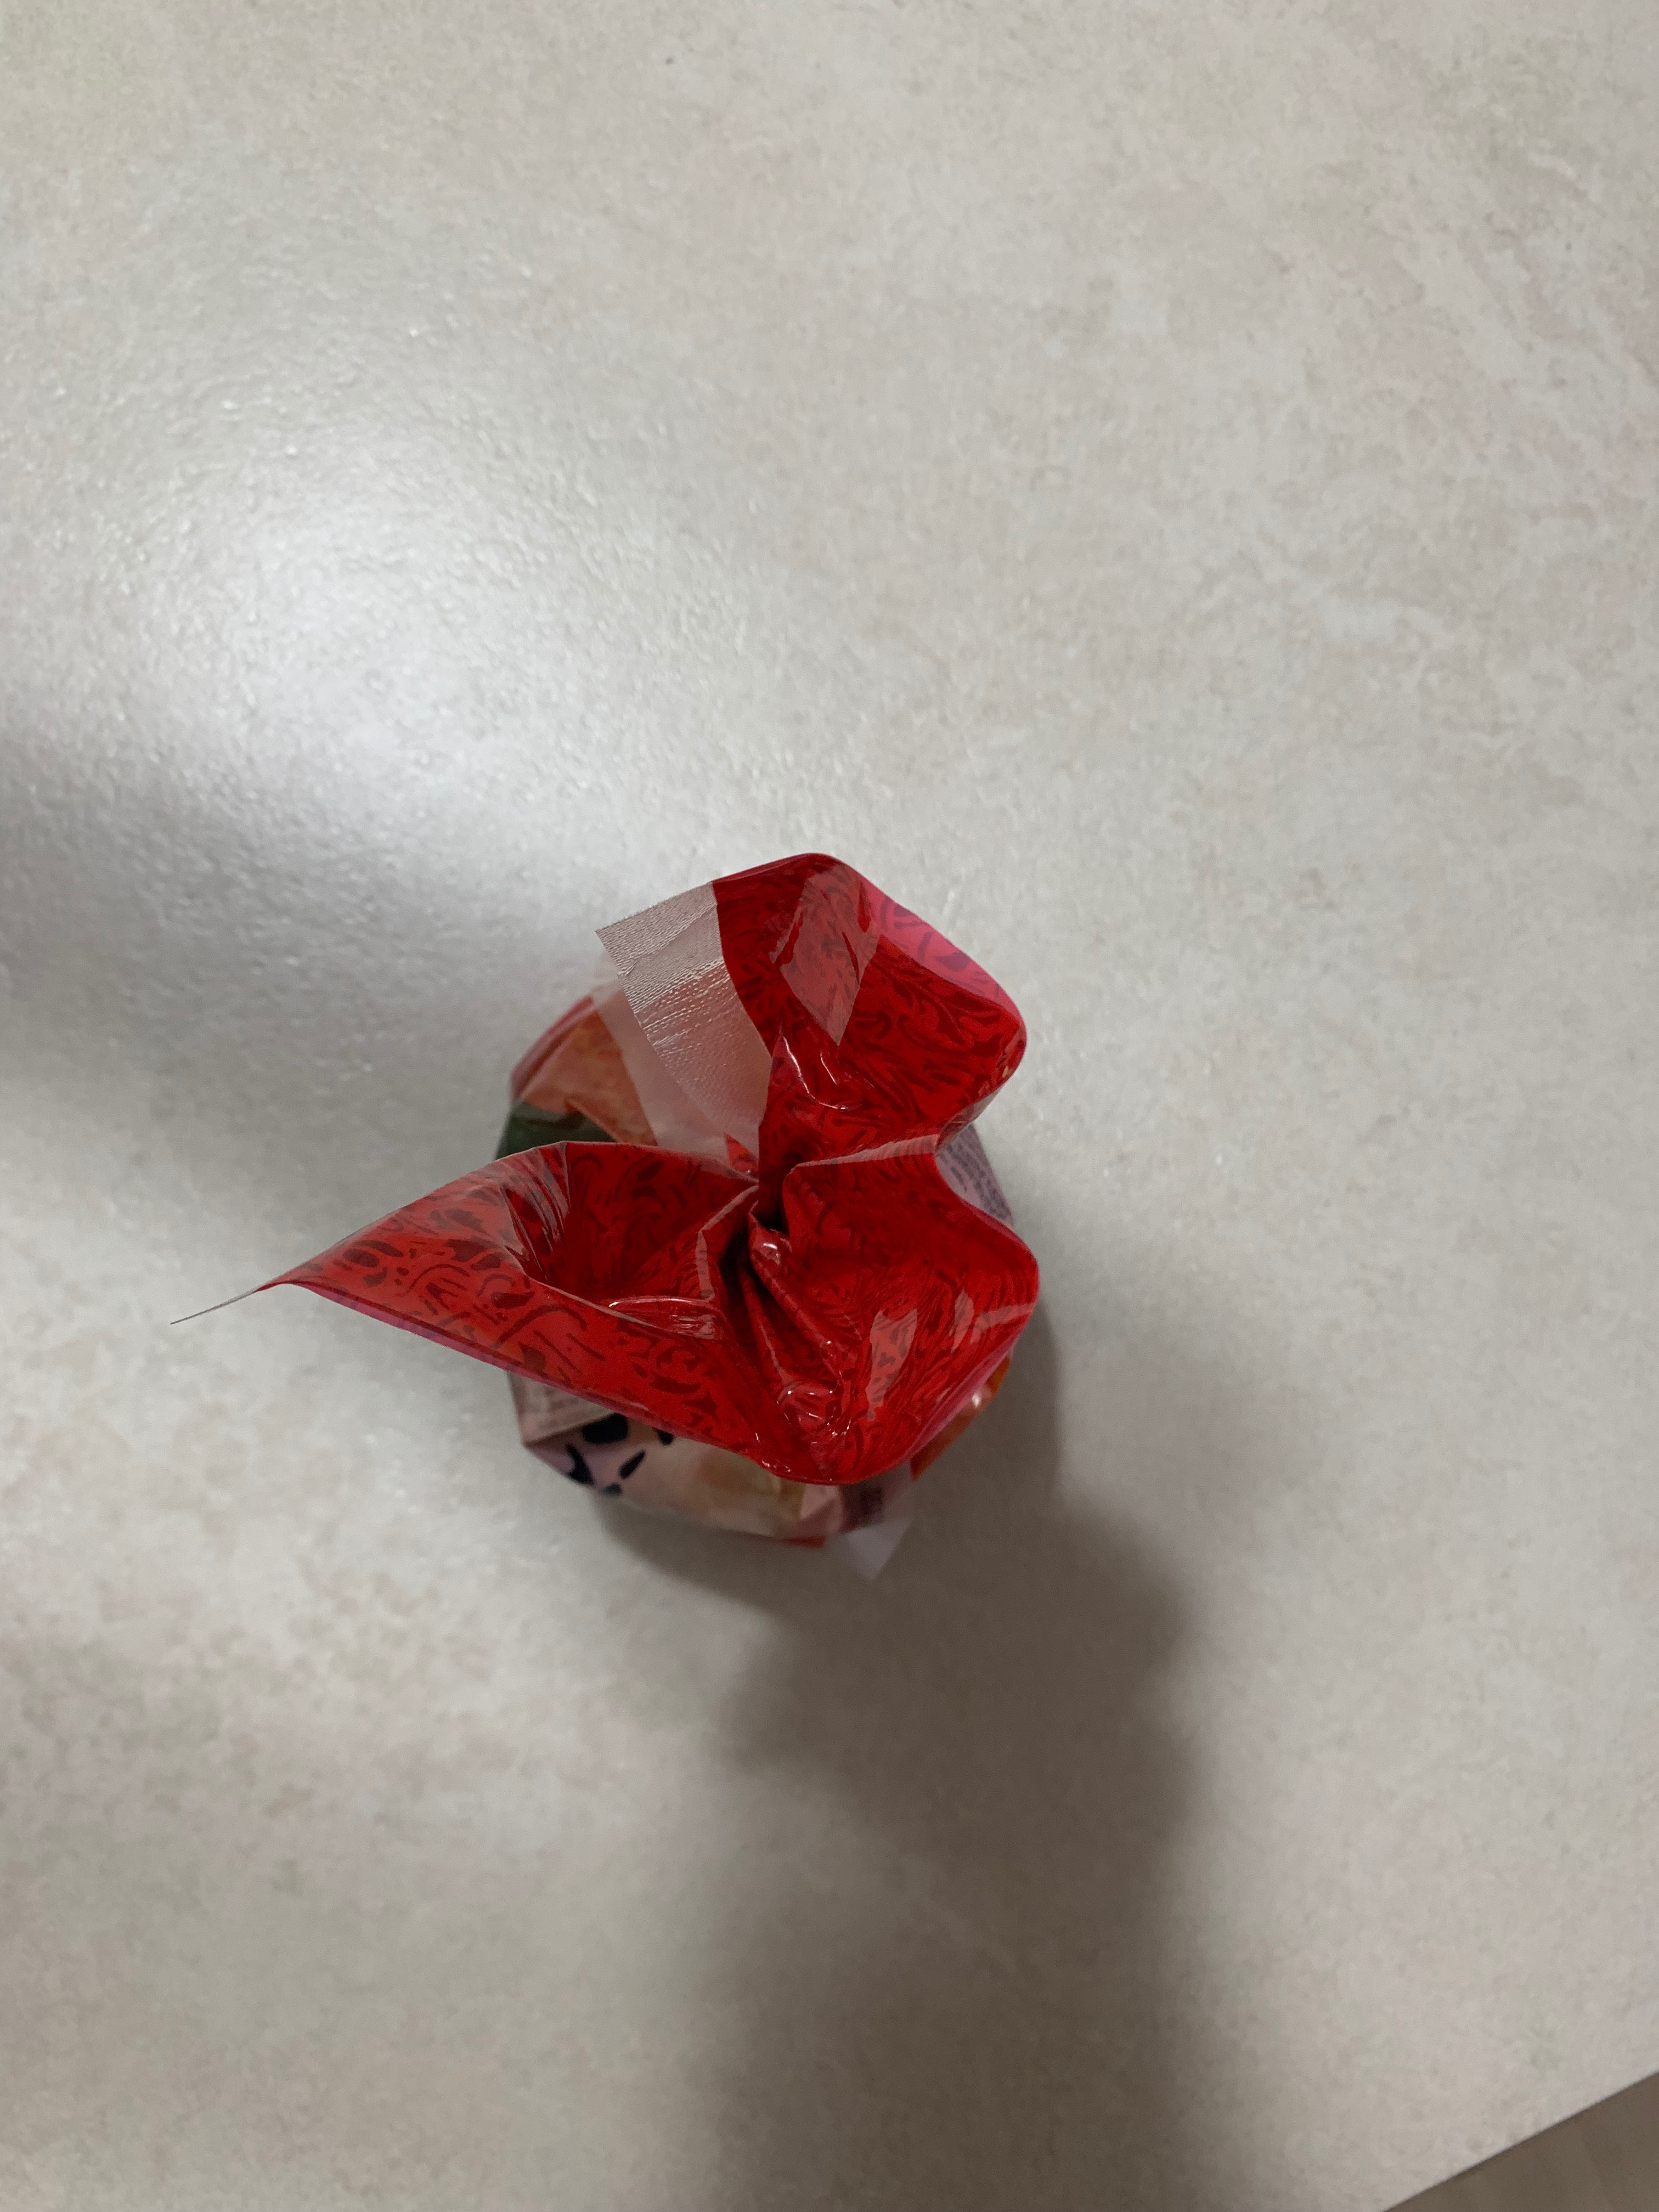kimchi: (284, 852, 1044, 1548)
